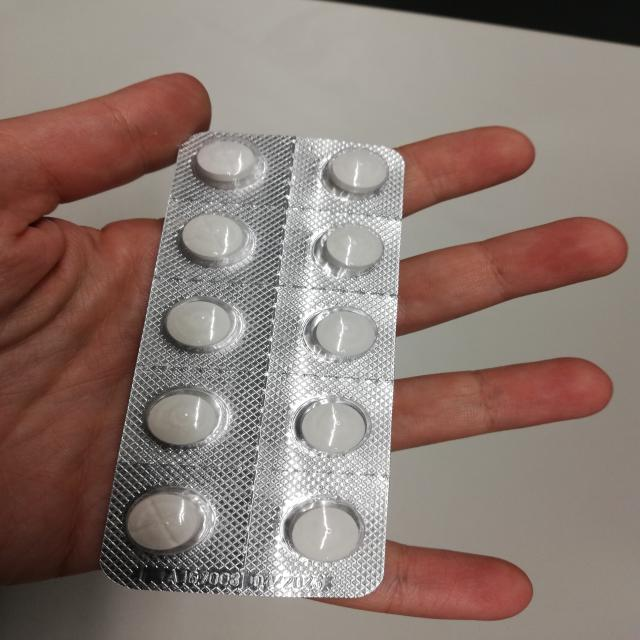Pill: (133, 383, 230, 457), (280, 496, 378, 568), (117, 484, 211, 556), (152, 287, 242, 357), (169, 203, 259, 272), (315, 136, 400, 208), (306, 217, 396, 279), (302, 304, 394, 364), (186, 132, 270, 194), (289, 400, 372, 454)
